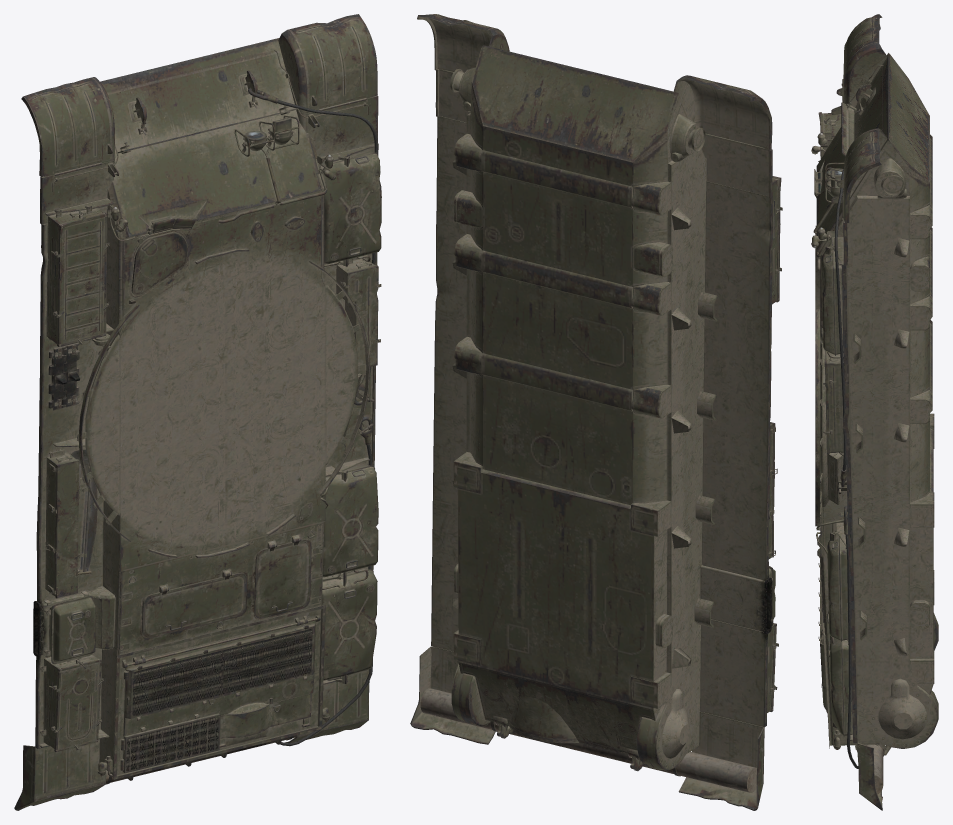
File: Hull.glb
3 renders of one model, left to right at view 1: azimuth 30°, elevation 25°; view 2: azimuth 150°, elevation 25°; view 3: azimuth 270°, elevation 25°, orthographic. The views are drawn at different scales.
Parts seen in each view (by area): view 1: set_0_group_0; view 2: set_0_group_0; view 3: set_0_group_0.
Part boxes in pixels (x1,y1,x2,y2): set_0_group_0: [14, 14, 381, 810]; set_0_group_0: [410, 14, 782, 810]; set_0_group_0: [811, 14, 938, 810].
Bounding box in the file's own units: 3.41 × 6.71 × 1.19.
Materials: 1 (1 with a texture image).
